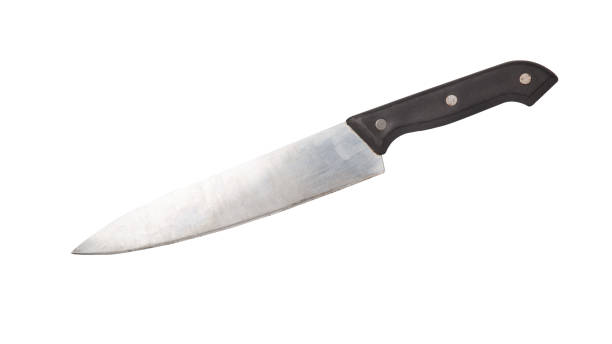knife: (69, 60, 558, 255)
